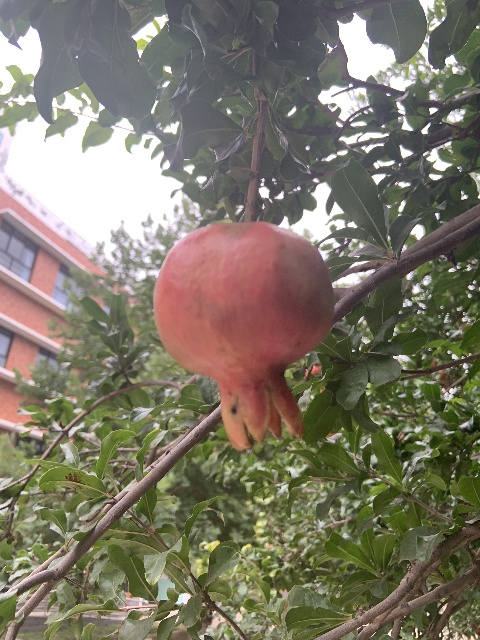ripe: (153, 220, 335, 449)
